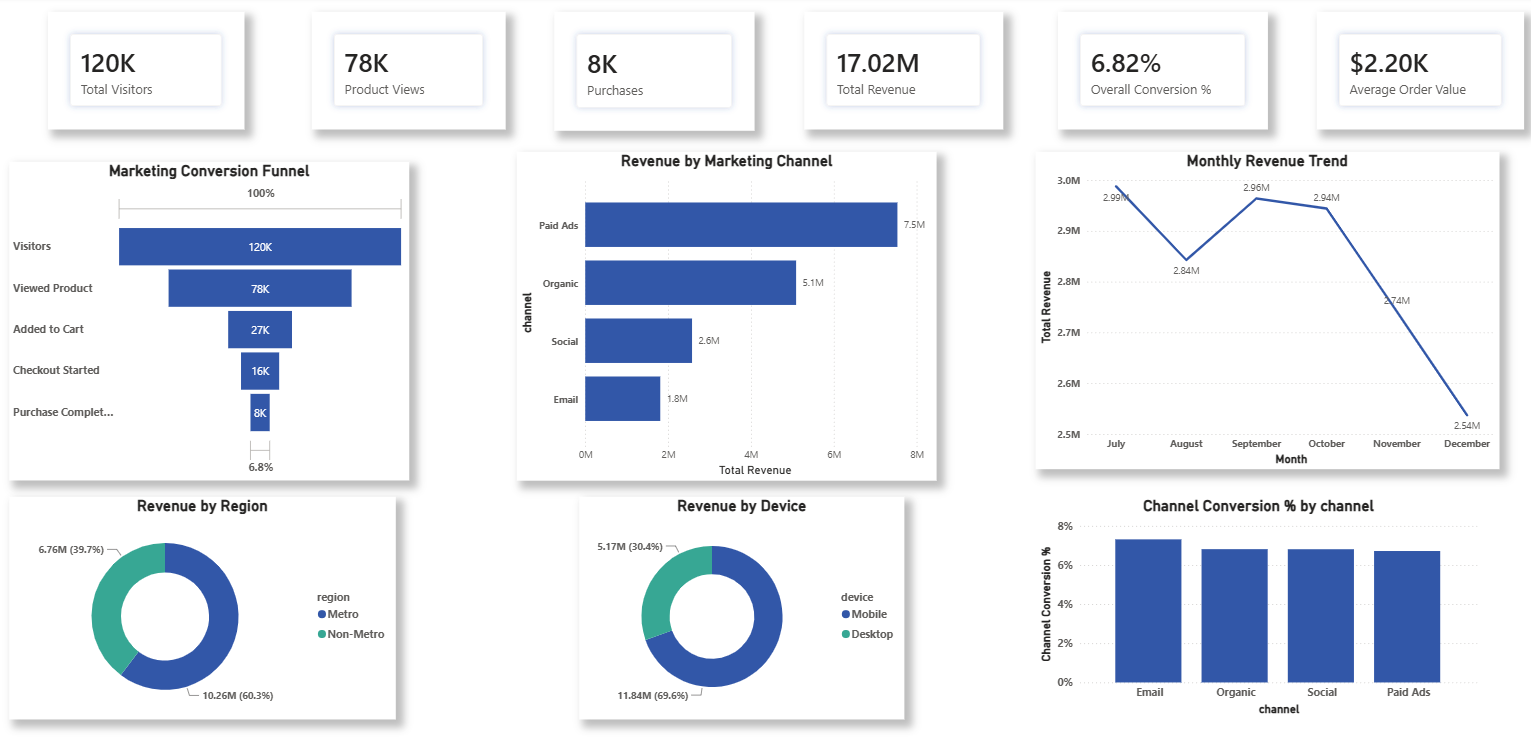

The page's visual inventory and layout, read from the dashboard file:
{"tool":"powerbi","page":{"name":"Page 1","canvas":[1920,1080],"ordinal":0},"visuals":[{"type":"cardVisual","fields":{"Data":["marketing_funnel_cleaned.Total Visitors"]},"box":[62.5,17.2,245.3,146.9],"z":0},{"type":"cardVisual","fields":{"Data":["marketing_funnel_cleaned.Purchases"]},"box":[695.3,17.2,250,148.4],"z":1},{"type":"cardVisual","fields":{"Data":["marketing_funnel_cleaned.Overall Conversion %"]},"box":[1325,17.2,262.5,146.9],"z":2},{"type":"cardVisual","fields":{"Data":["marketing_funnel_cleaned.Product Views"]},"box":[392.2,17.2,242.2,146.9],"z":3},{"type":"cardVisual","fields":{"Data":["marketing_funnel_cleaned.Total Revenue"]},"box":[1007.8,17.2,248.4,146.9],"z":4},{"type":"cardVisual","fields":{"Data":["marketing_funnel_cleaned.Average Order Value"]},"box":[1648.4,17.2,259.4,146.9],"z":5},{"type":"funnel","title":"Marketing Conversion Funnel","fields":{"Category":["Funnel_Data.Stage"],"Y":["Sum(Funnel_Data.Users)"]},"box":[14.1,204.7,500,398.4],"z":6},{"type":"clusteredBarChart","title":"Revenue by Marketing Channel","fields":{"Category":["marketing_funnel_cleaned.channel"],"Y":["marketing_funnel_cleaned.Total Revenue"]},"box":[648.4,192.2,525,410.9],"z":7},{"type":"lineChart","title":"Monthly Revenue Trend","fields":{"Category":["marketing_funnel_cleaned.month.Variation.Date Hierarchy.Month"],"Y":["marketing_funnel_cleaned.Total Revenue"]},"box":[1296.9,192.2,579.7,396.9],"z":8},{"type":"donutChart","title":"Revenue by Region","fields":{"Category":["marketing_funnel_cleaned.region"],"Y":["marketing_funnel_cleaned.Total Revenue"]},"box":[14.1,623.4,482.8,278.1],"z":9},{"type":"donutChart","title":"Revenue by Device","fields":{"Category":["marketing_funnel_cleaned.device"],"Y":["marketing_funnel_cleaned.Total Revenue"]},"box":[726.6,623.4,406.2,278.1],"z":10},{"type":"clusteredColumnChart","fields":{"Category":["marketing_funnel_cleaned.channel"],"Y":["Funnel_Data.Channel Conversion %"]},"box":[1296.9,623.4,557.8,278.1],"z":11}]}

Visuals, with their boxes on the page's 1920x1080 design canvas (x1, y1, x2, y2). These are canvas units, not pixel positions in the 1531x737 screenshot, which may show the page scaled, cropped or inside an application window:
cardVisual - marketing_funnel_cleaned.Total Visitors: crop(62, 17, 308, 164)
cardVisual - marketing_funnel_cleaned.Purchases: crop(695, 17, 945, 166)
cardVisual - marketing_funnel_cleaned.Overall Conversion %: crop(1325, 17, 1588, 164)
cardVisual - marketing_funnel_cleaned.Product Views: crop(392, 17, 634, 164)
cardVisual - marketing_funnel_cleaned.Total Revenue: crop(1008, 17, 1256, 164)
cardVisual - marketing_funnel_cleaned.Average Order Value: crop(1648, 17, 1908, 164)
"Marketing Conversion Funnel" funnel: crop(14, 205, 514, 603)
"Revenue by Marketing Channel" clusteredBarChart: crop(648, 192, 1173, 603)
"Monthly Revenue Trend" lineChart: crop(1297, 192, 1877, 589)
"Revenue by Region" donutChart: crop(14, 623, 497, 902)
"Revenue by Device" donutChart: crop(727, 623, 1133, 902)
clusteredColumnChart - marketing_funnel_cleaned.channel x Funnel_Data.Channel Conversion %: crop(1297, 623, 1855, 902)
